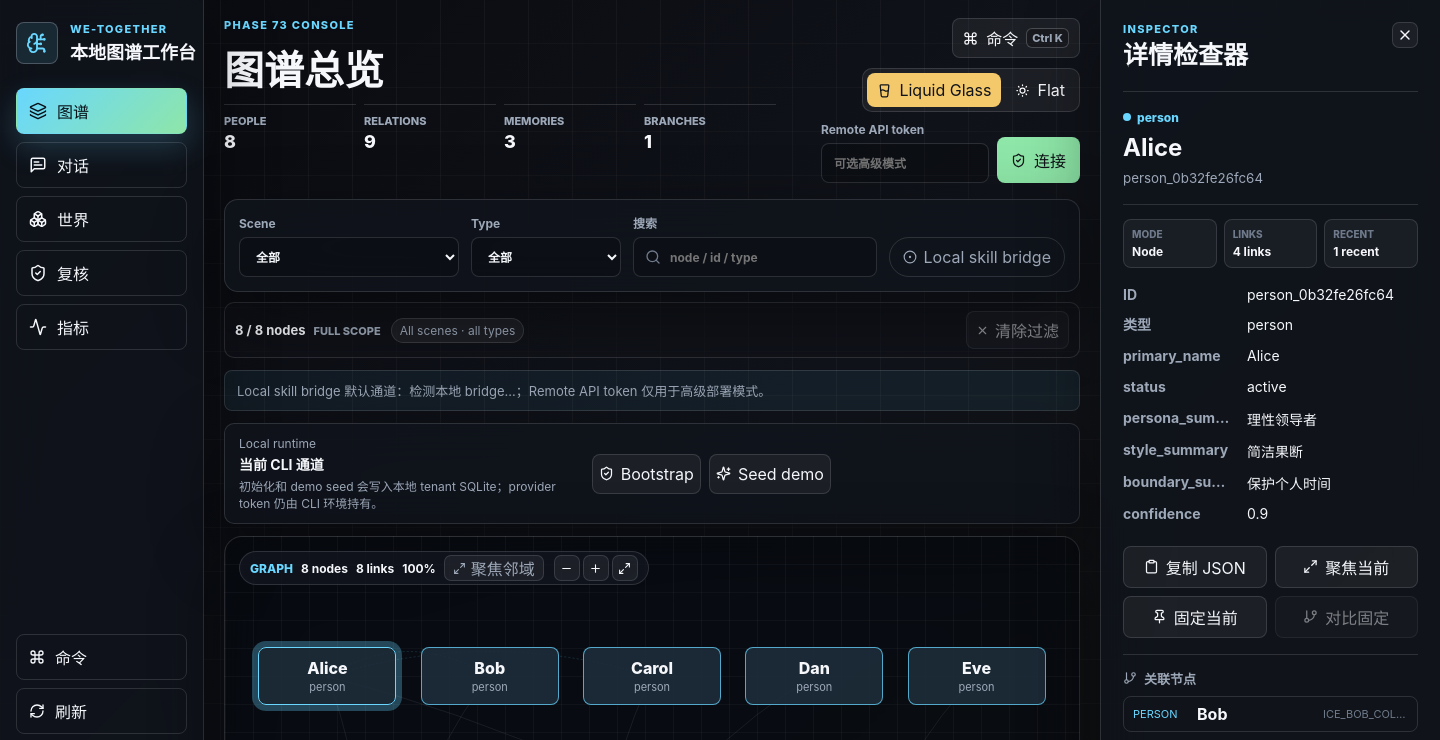
Test: WeTogether WebUI › uses the command palette to focus the current node neighborhood
Step 1. Type keys "{Control>}k{/Control}"
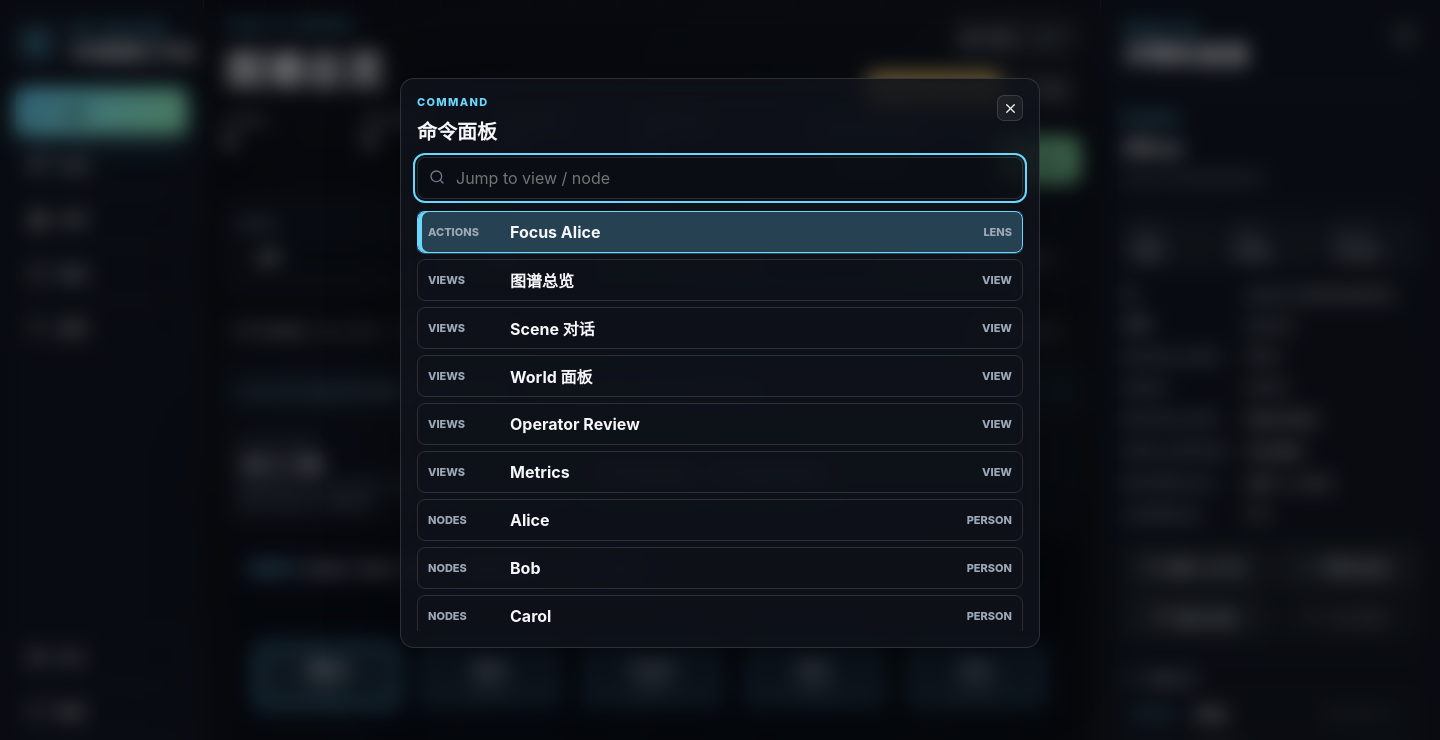
Step 2. Type "Focus Alice" into the field named "命令搜索" → coordinates (720, 178), box x1=417 y1=157 x2=1023 y2=199
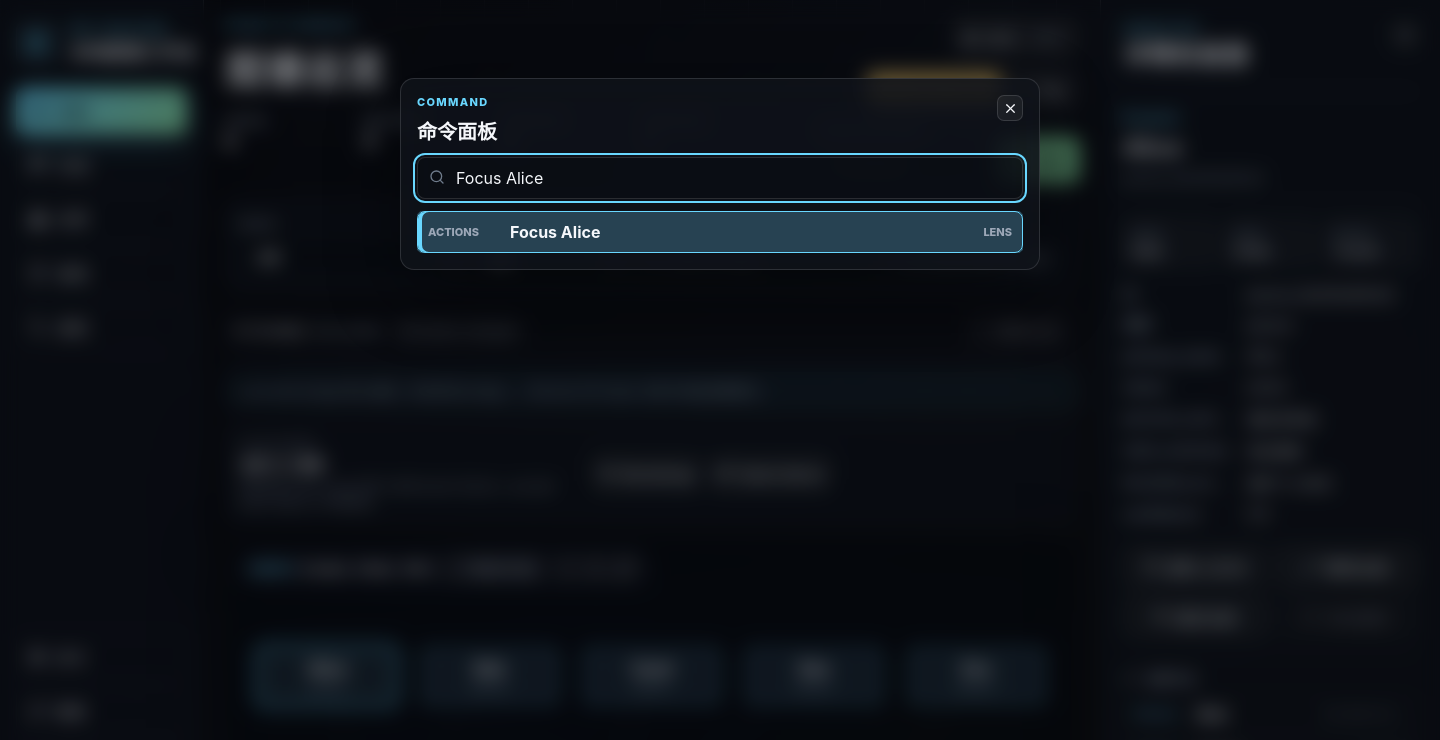
Step 3. Press Enter
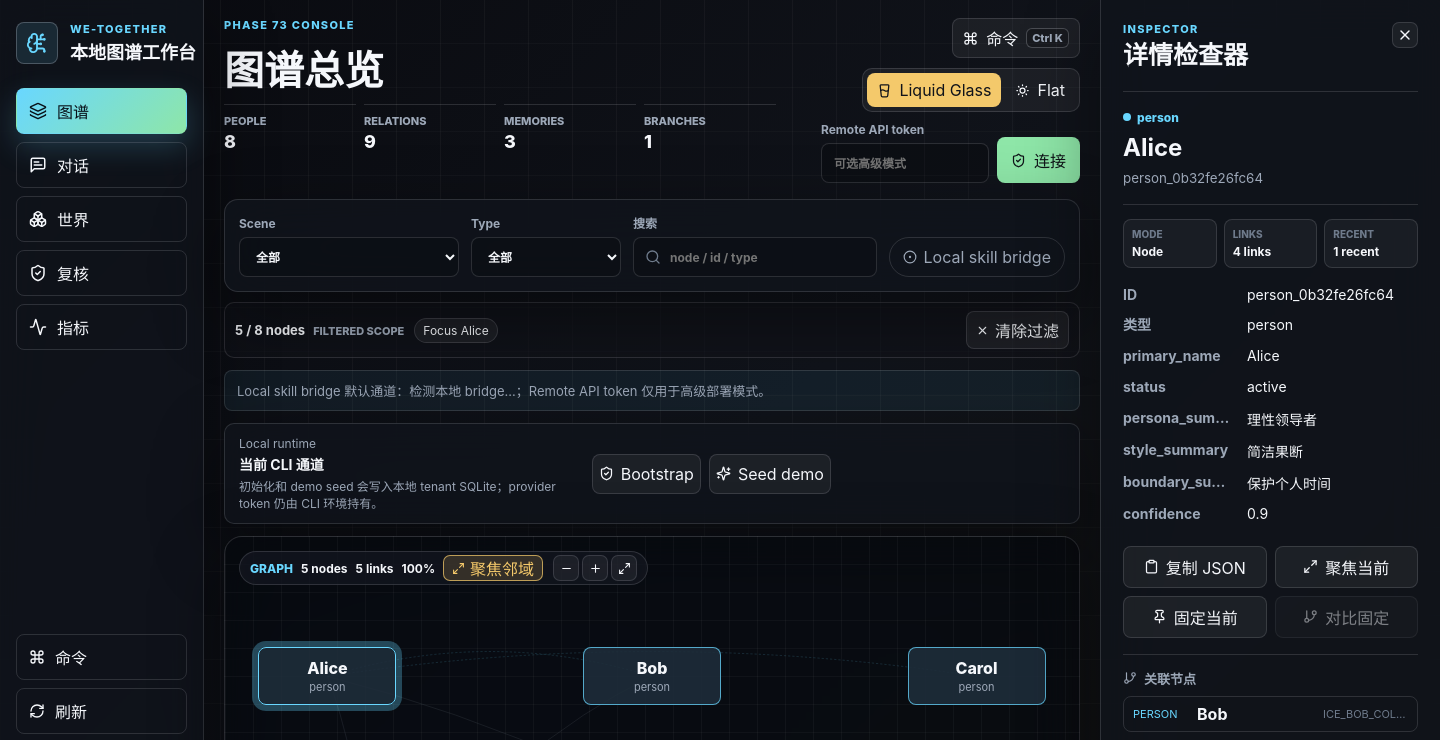
Expected: the text "Focus Alice" is shown, x1=414 y1=318 x2=498 y2=342
Expected: the text "5 / 8 nodes" is shown, x1=235 y1=322 x2=305 y2=338
